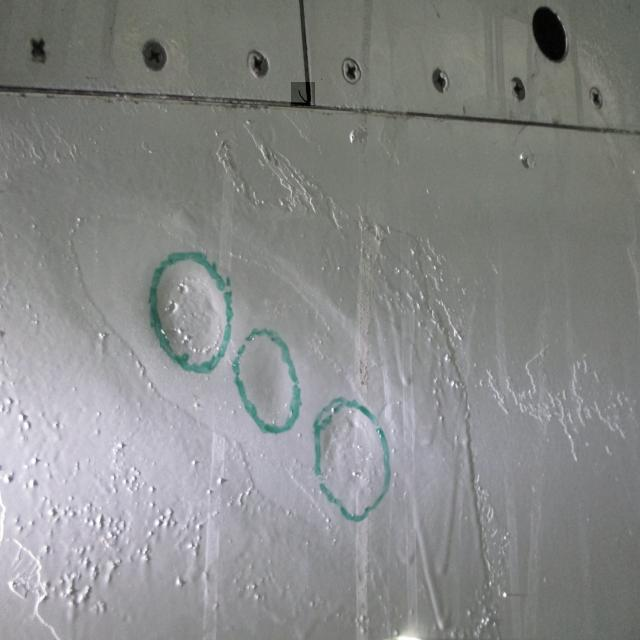crack: (292, 83, 316, 107)
